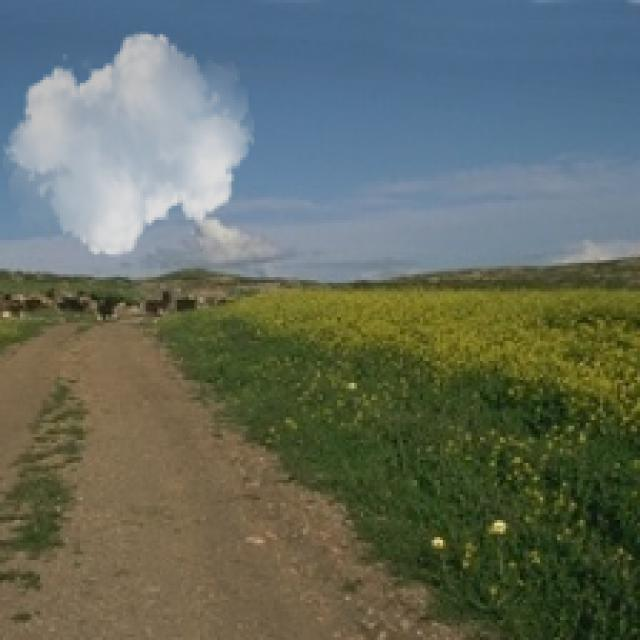smoke: (3, 23, 254, 266)
